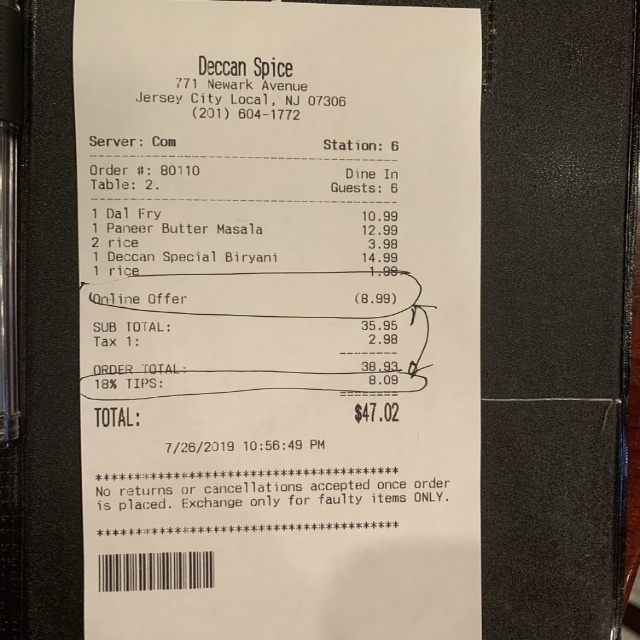invoice_table: (88, 208, 399, 278)
invoice_title: (135, 75, 348, 122)
invoice_total: (93, 400, 400, 426)
